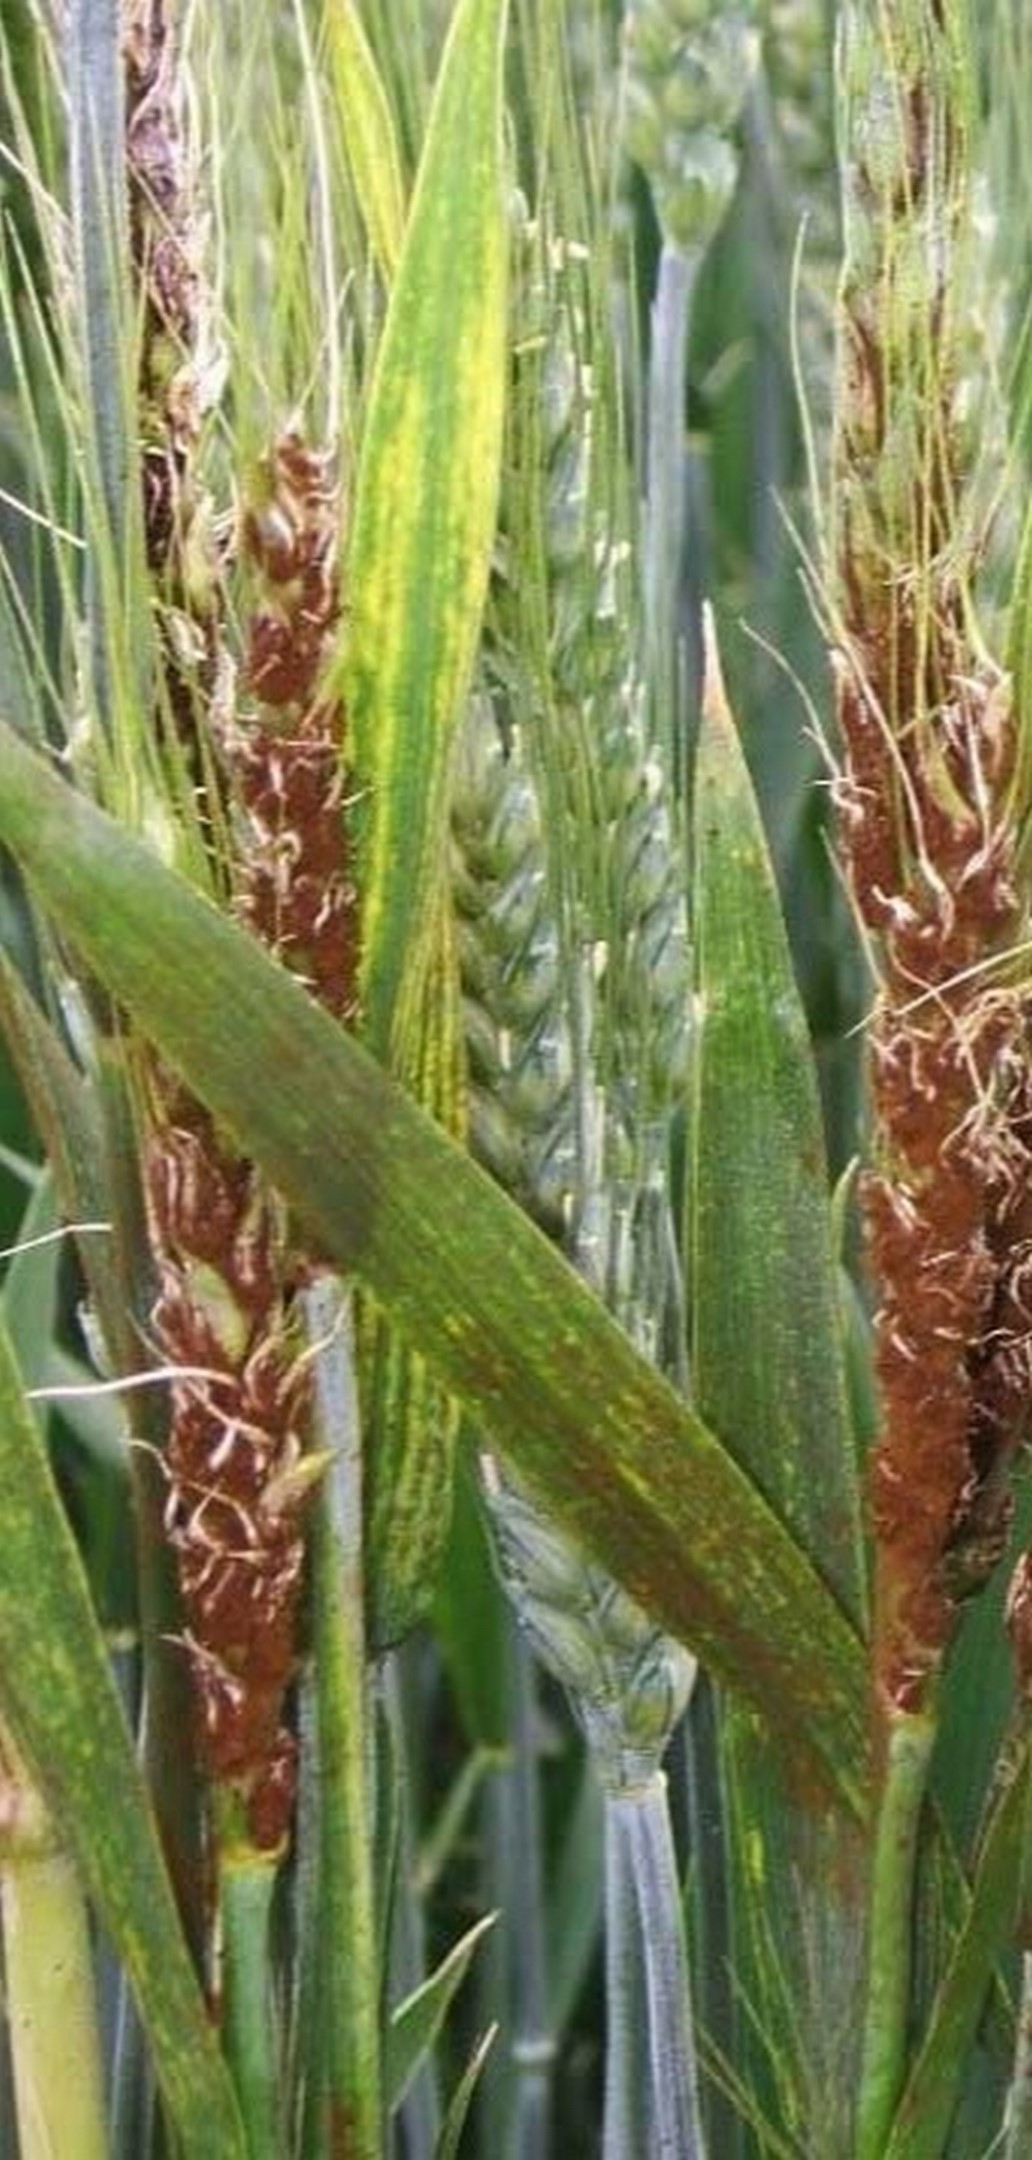Wheat Loose Smut: (824, 840, 1032, 1670), (123, 1124, 371, 1800), (208, 431, 401, 968)
